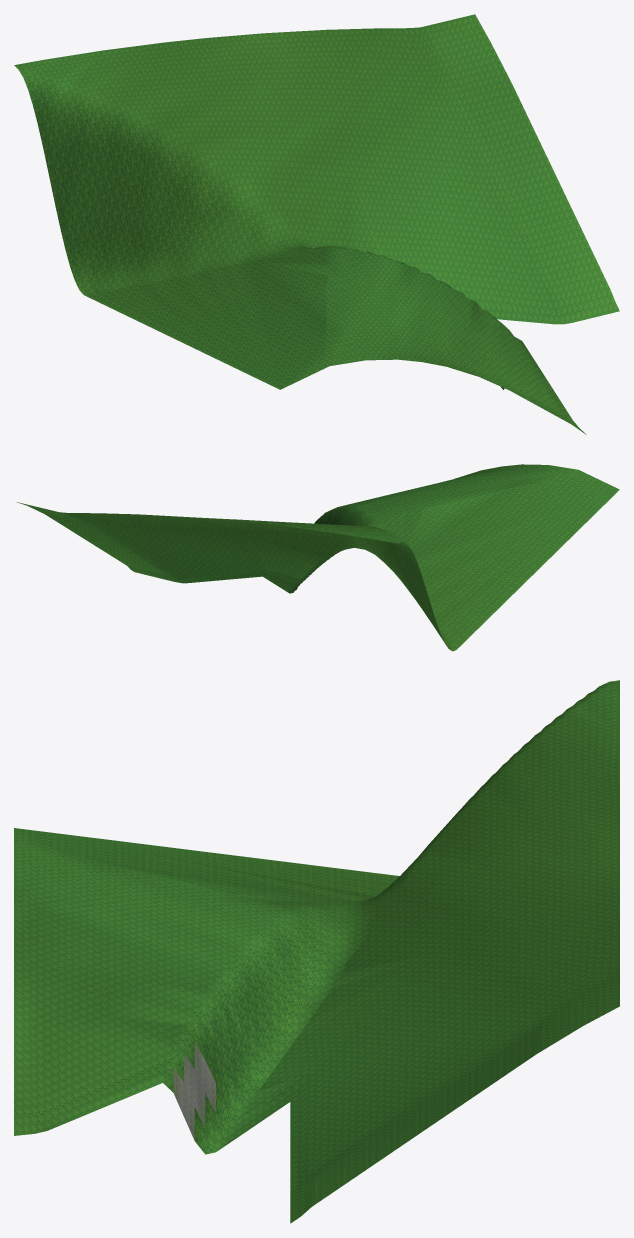
File: payo_land_far_se_lod2.glb
The picture shows the model from 3 angles, top to bottom: view 1: azimuth 30°, elevation 25°; view 2: azimuth 150°, elevation 25°; view 3: azimuth 270°, elevation 25°; orthographic projection. The views are drawn at different scales.
Visible parts, largest first — view 1: payo_land_far_se; view 2: payo_land_far_se; view 3: payo_land_far_se.
Boxes of the visible parts, x1,y1,x2,y2 form: payo_land_far_se: (14,14,619,434); payo_land_far_se: (16,464,619,651); payo_land_far_se: (14,680,619,1223).
Bounding box in the file's own units: 342 × 189 × 342.
2 materials, 2 textured.
